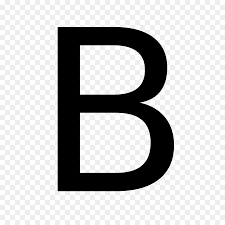B: (50, 20, 178, 201)
